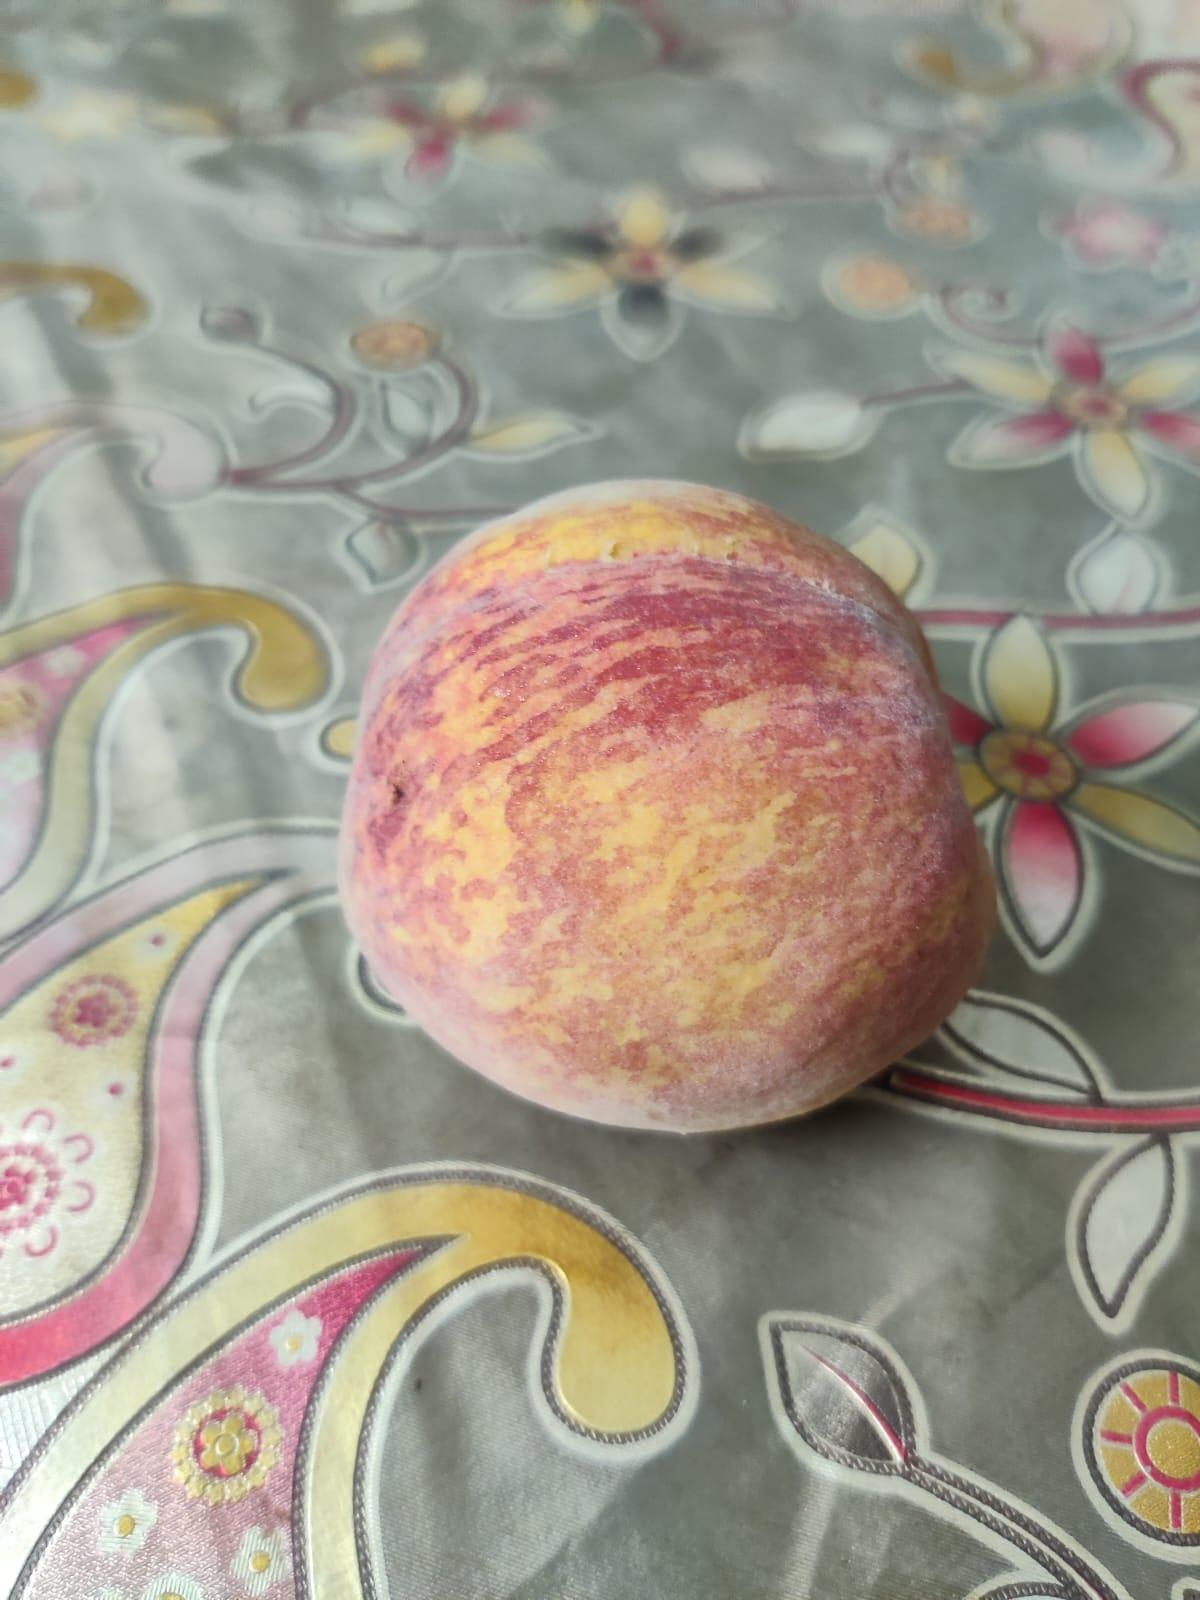non-mango: (340, 466, 993, 1144)
